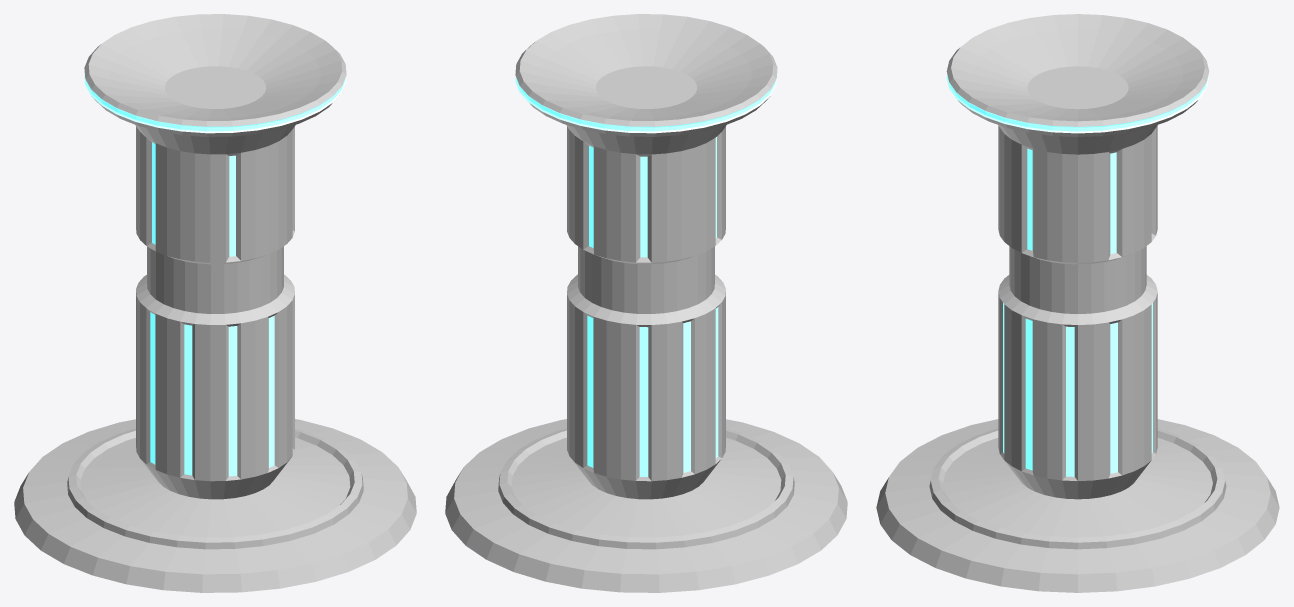
Rendered from Pedistal.fbx.
3 views of the same model, side by side, from view 1: azimuth 30°, elevation 25°; view 2: azimuth 150°, elevation 25°; view 3: azimuth 270°, elevation 25° (orthographic).
Parts seen in each view (by area): view 1: Cylinder; view 2: Cylinder; view 3: Cylinder.
Part boxes in pixels (left/top/right/bottom): Cylinder: left=14, top=14, right=416, bottom=592; Cylinder: left=445, top=14, right=847, bottom=592; Cylinder: left=876, top=14, right=1279, bottom=592.
Size of the model in its own units: 209 by 252 by 209.
